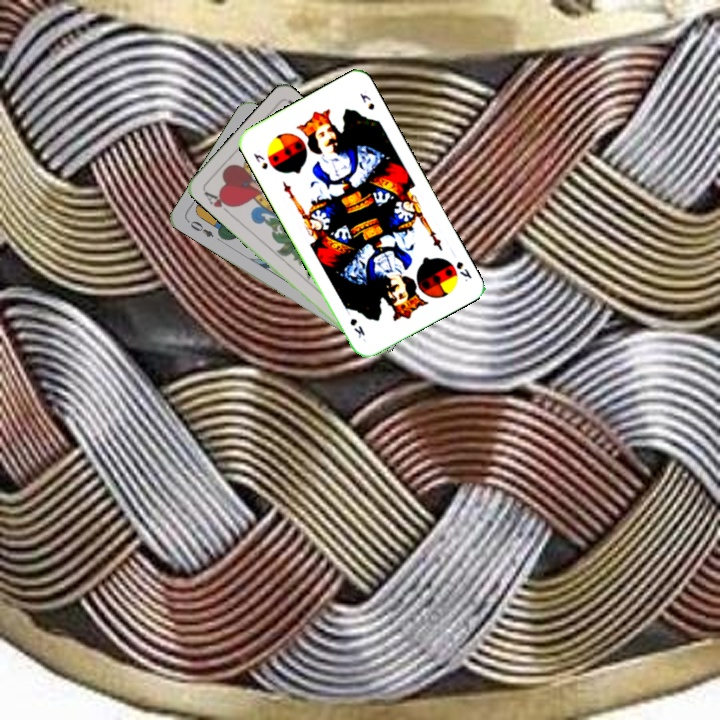EO: (183, 216, 216, 240)
HA: (200, 187, 237, 217)
SK: (452, 257, 475, 284), (249, 149, 271, 172)
